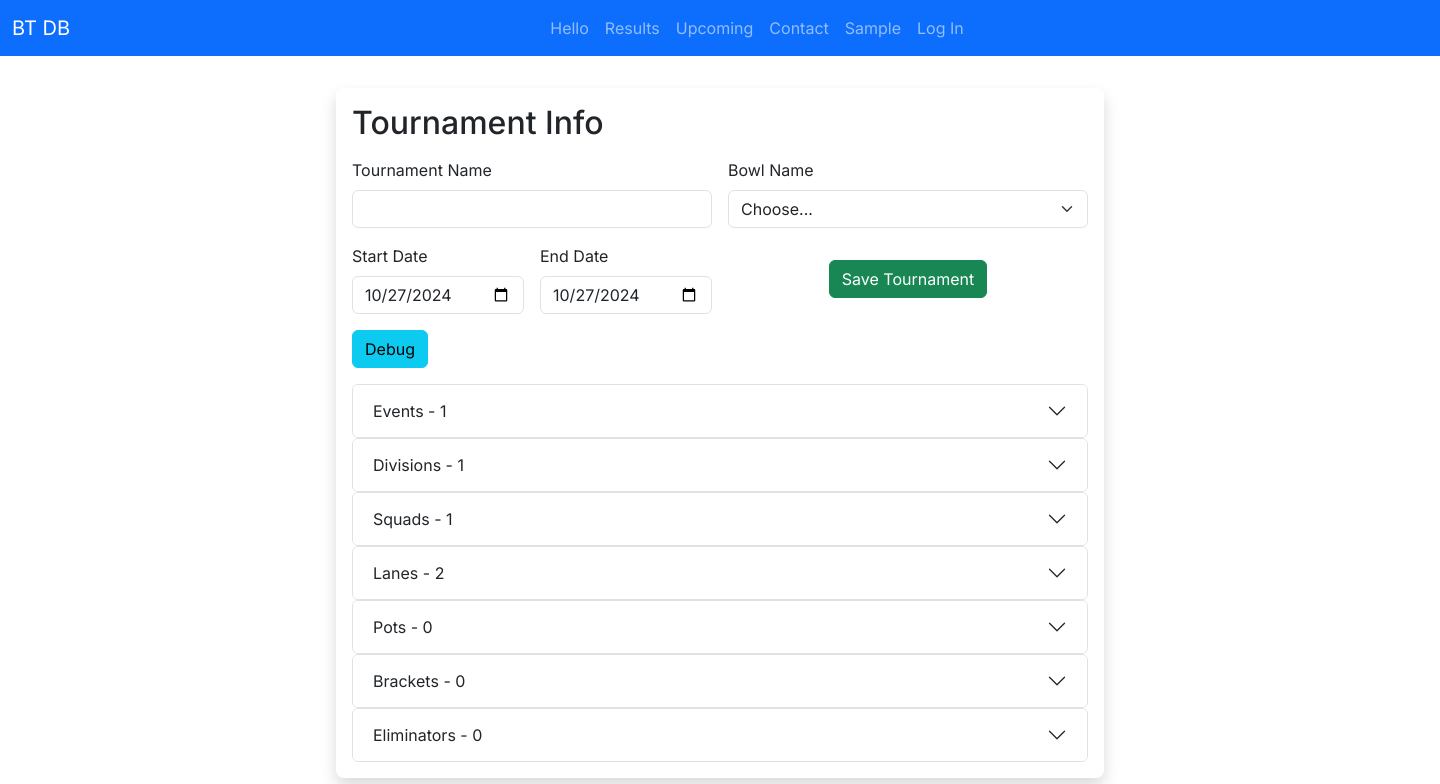
Test case: TmntDataPage - Squads Component › click on the squads accordian › render the squads tab
The image size is (1440, 784).
Click the button "Squads - 1" at (410, 519), box 353,493 -> 1087,545
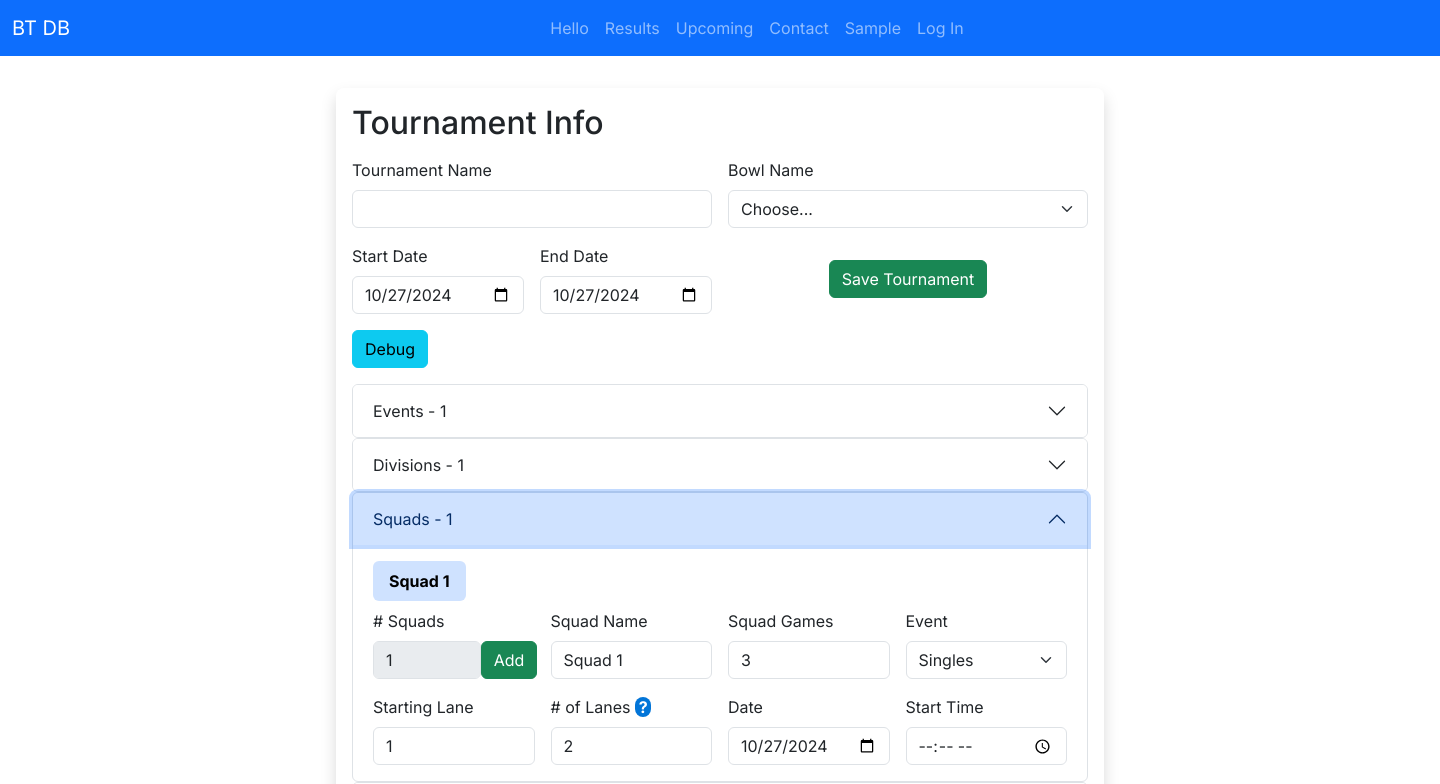
Now the tab "Squad 1" is shown, box 373,561 -> 466,601
